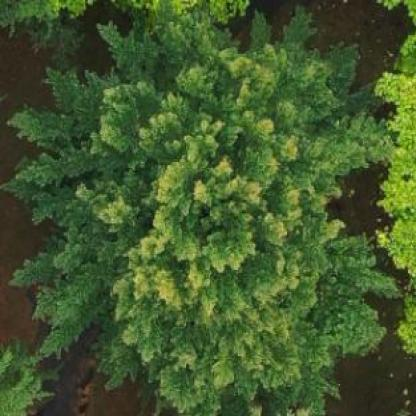Coniferous Tree: (16, 0, 416, 388)
